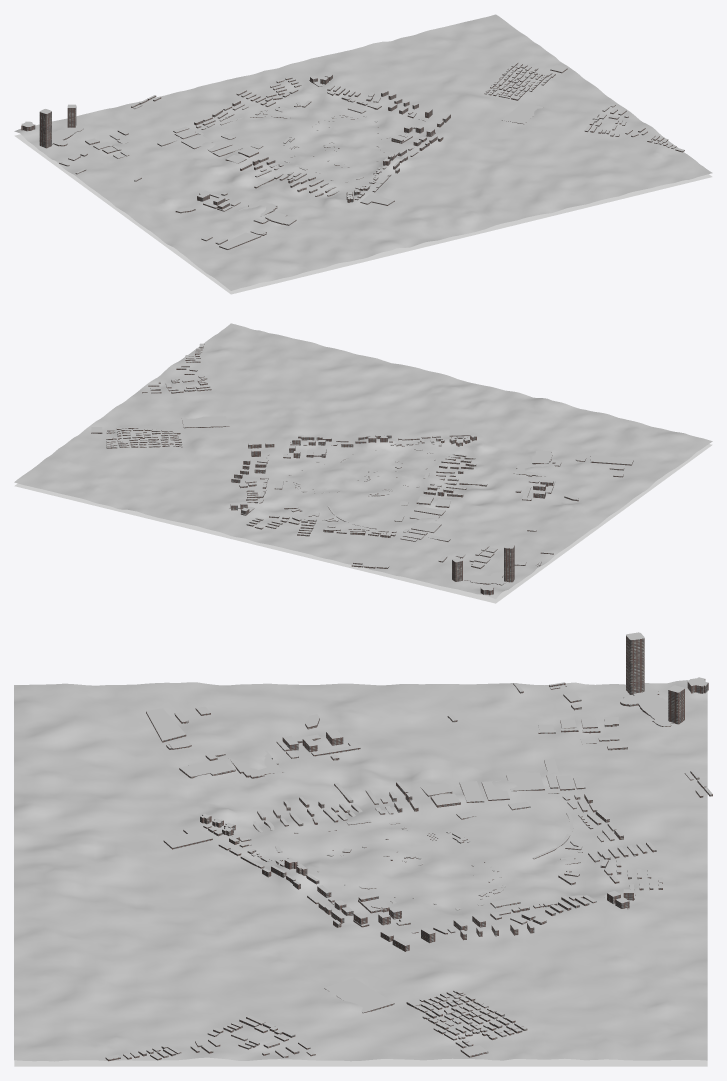
File: huangxing.dae
3 views of the same model, one above another, from view 1: azimuth 30°, elevation 25°; view 2: azimuth 150°, elevation 25°; view 3: azimuth 270°, elevation 25° (orthographic). The views are drawn at different scales.
Parts seen in each view (by area): view 1: Terrain, map_36.osm_buildings.001, map_36.osm_buildings, Terrain_envelope; view 2: Terrain, map_36.osm_buildings.001, map_36.osm_buildings, Terrain_envelope; view 3: Terrain, map_36.osm_buildings.001, map_36.osm_buildings, Terrain_envelope.
Part boxes in pixels (<box>): Terrain: <box>14,14,712,290</box>; map_36.osm_buildings.001: <box>21,62,684,248</box>; map_36.osm_buildings: <box>21,63,684,249</box>; Terrain_envelope: <box>14,134,712,294</box>; Terrain: <box>14,323,712,599</box>; map_36.osm_buildings.001: <box>91,343,633,590</box>; map_36.osm_buildings: <box>91,344,633,595</box>; Terrain_envelope: <box>14,444,712,603</box>; Terrain: <box>14,680,707,1061</box>; map_36.osm_buildings.001: <box>106,632,712,1059</box>; map_36.osm_buildings: <box>105,635,712,1061</box>; Terrain_envelope: <box>14,1057,707,1066</box>.
Size of the model in its own units: 2704 by 2119 by 206.
